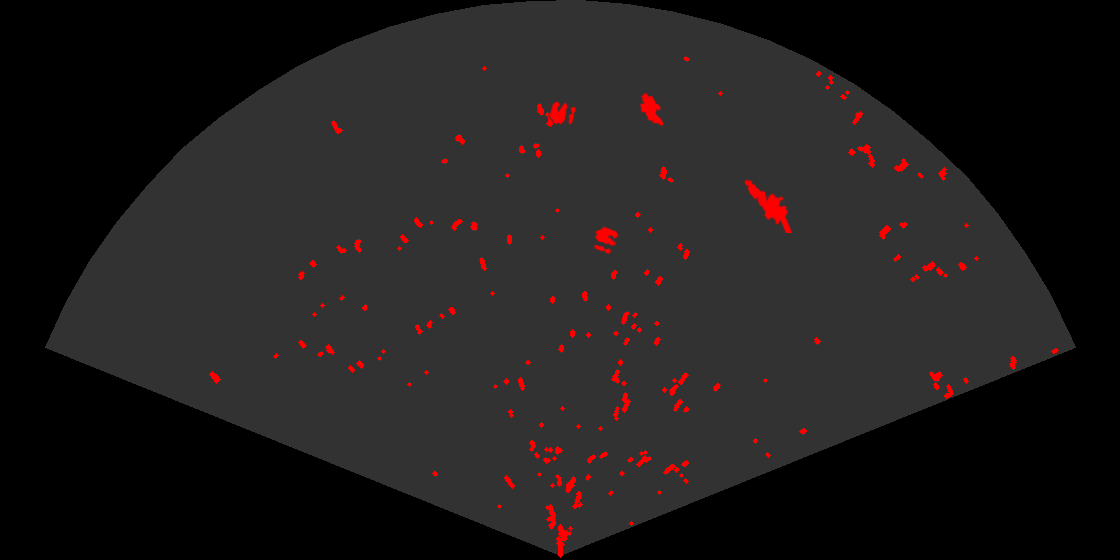AUV: (638, 91, 665, 128)
ball: (592, 225, 620, 255), (548, 100, 577, 126)
frogman: (740, 167, 794, 233)
